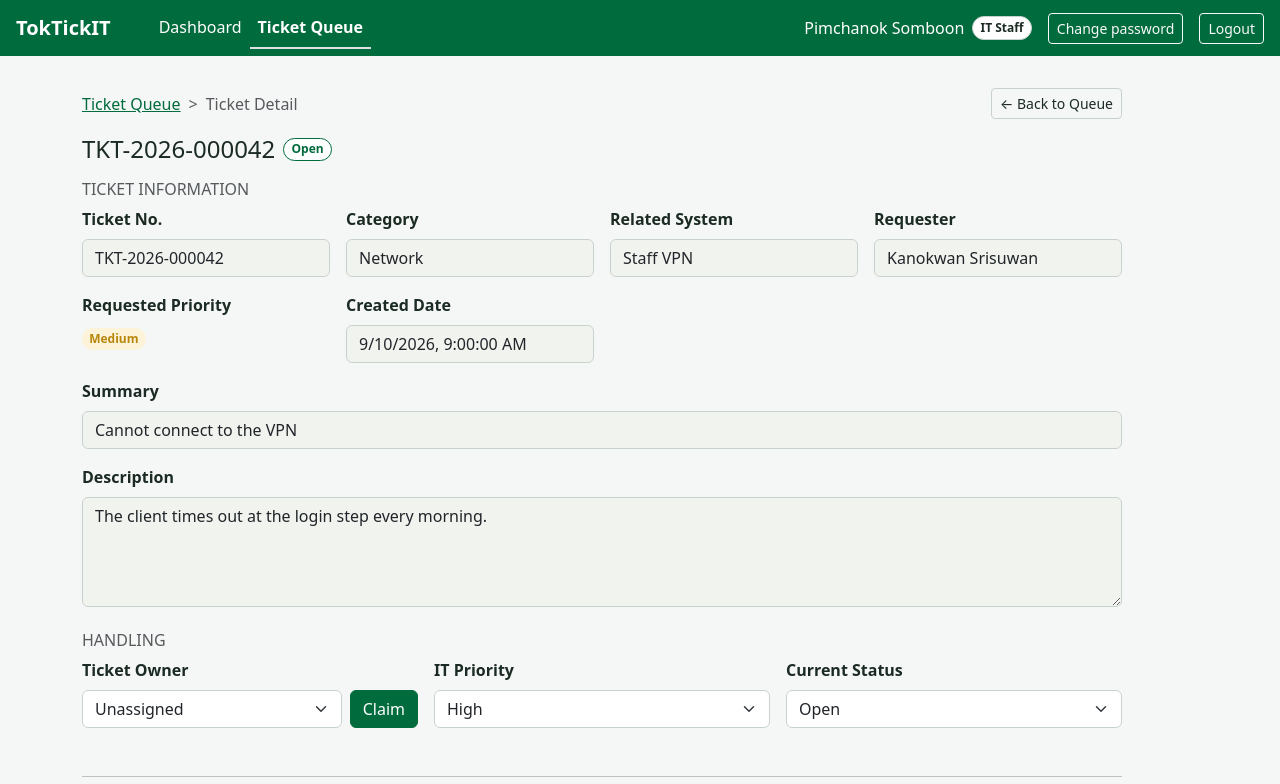
Staff Ticket Detail: Ticket Owner › tells the user when someone else claimed the Ticket first, and shows who owns it now
Expected: the heading "TKT-2026-000042" is shown, left=82, top=135, right=275, bottom=164
Step 1. Click the button "Claim" → (384, 709), box left=350, top=690, right=418, bottom=728
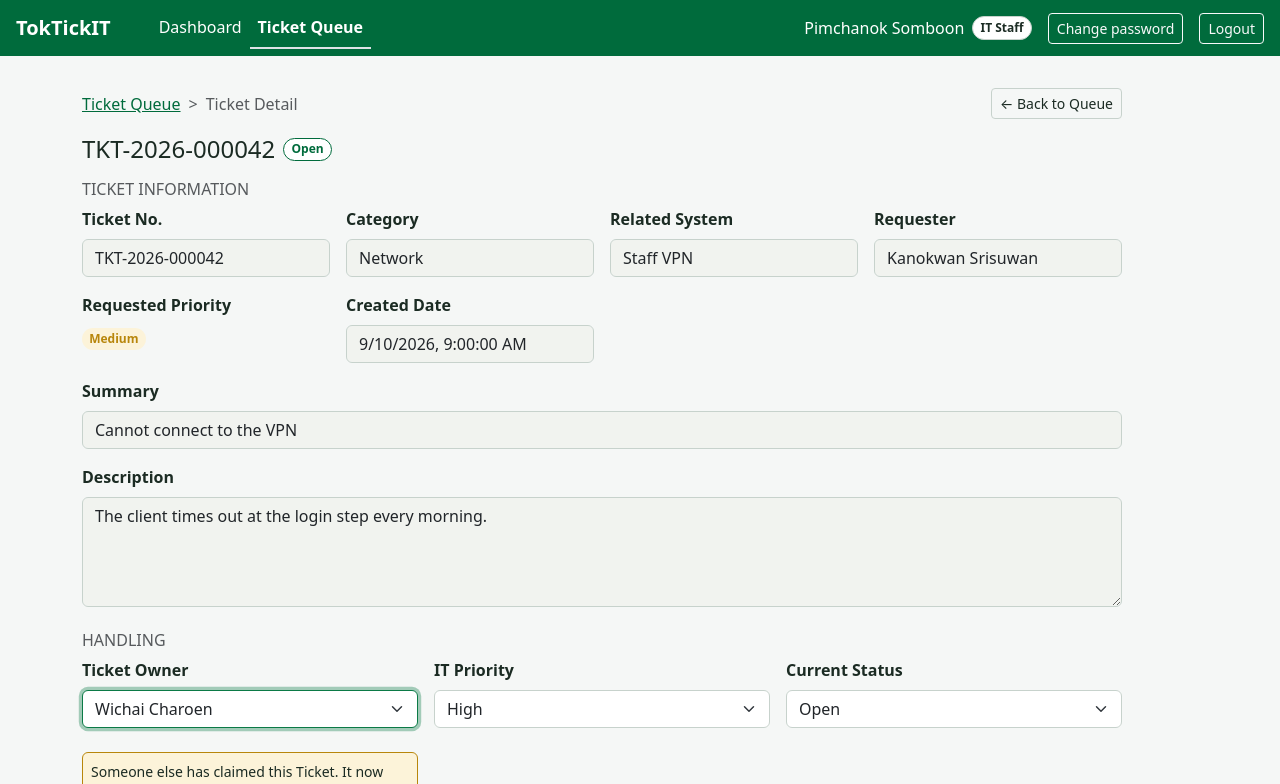
Expected: the dropdown labelled "Ticket Owner" shows "Wichai Charoen", left=82, top=690, right=418, bottom=728
